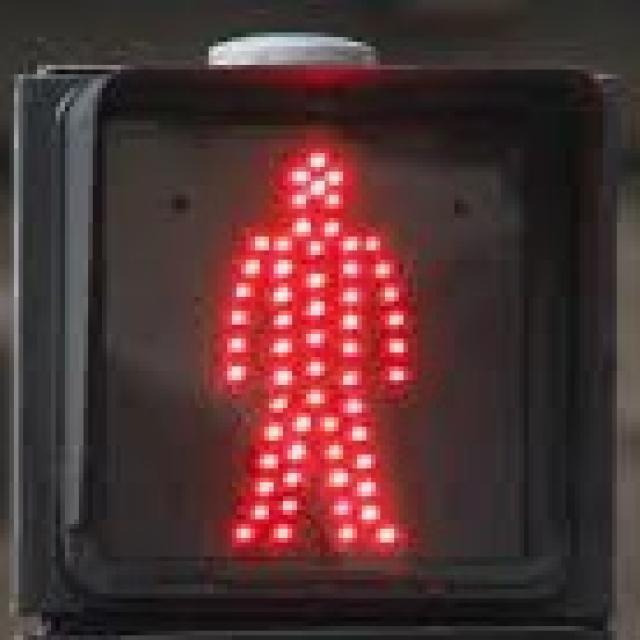red-crossing: (199, 111, 436, 575)
